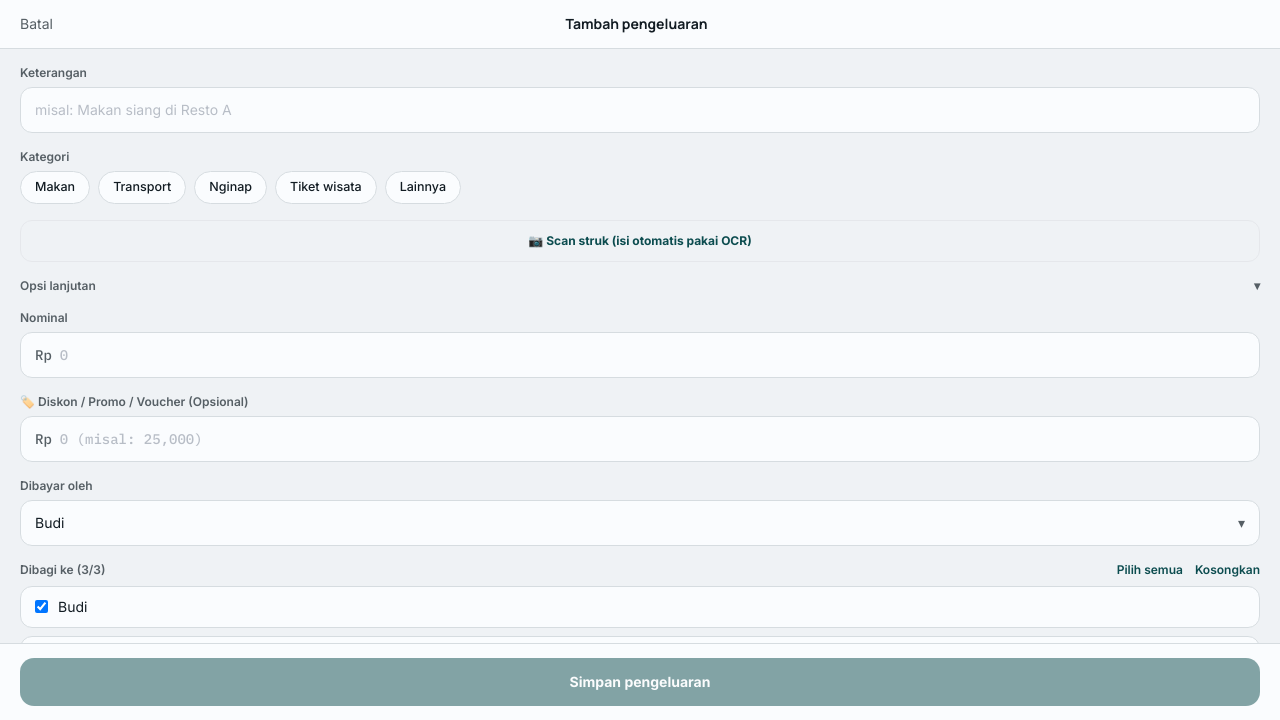
AddEditSubTripSheet — create mode › disables submit until a category is picked and required fields are filled
Expected: the button "Simpan pengeluaran" is disabled, [20,658,1260,706]
Type "Makan Siang" into the field with placeholder "misal: Makan siang di Resto A". click: (640, 110)
box: [20,87,1260,133]
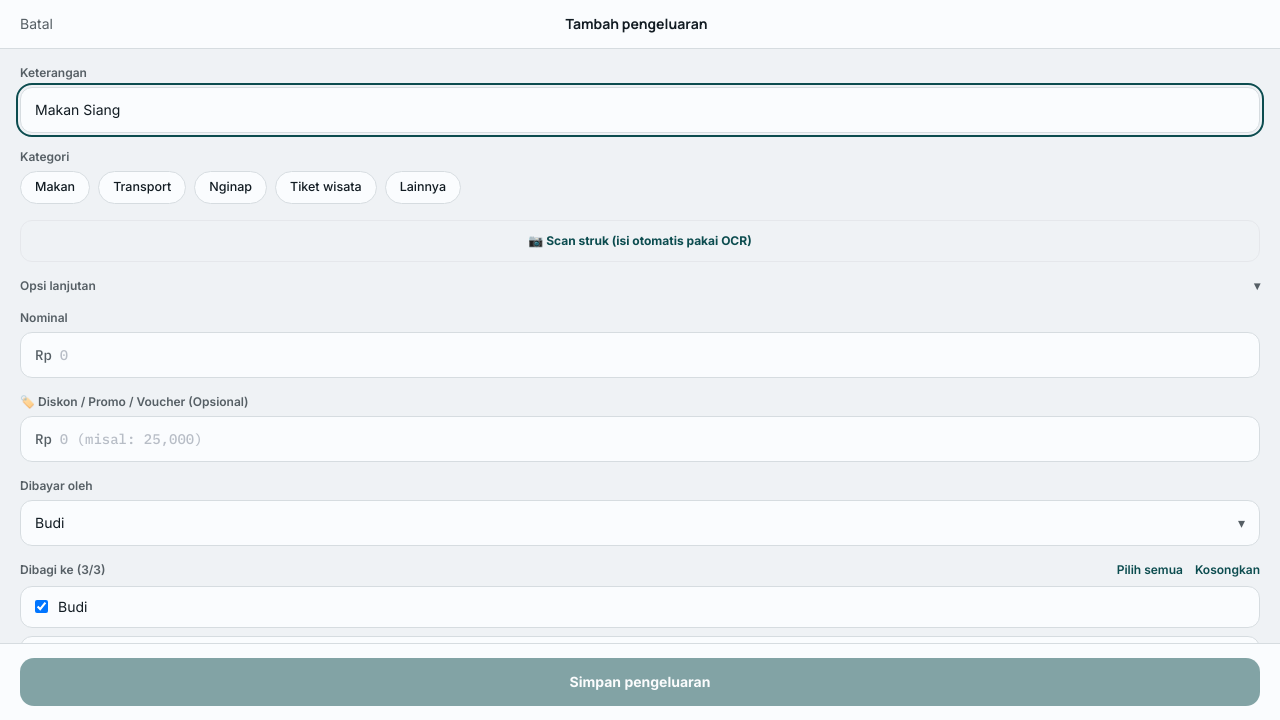
Type "90000" into the field with placeholder "0". click: (652, 355)
box: [60,345,1245,365]
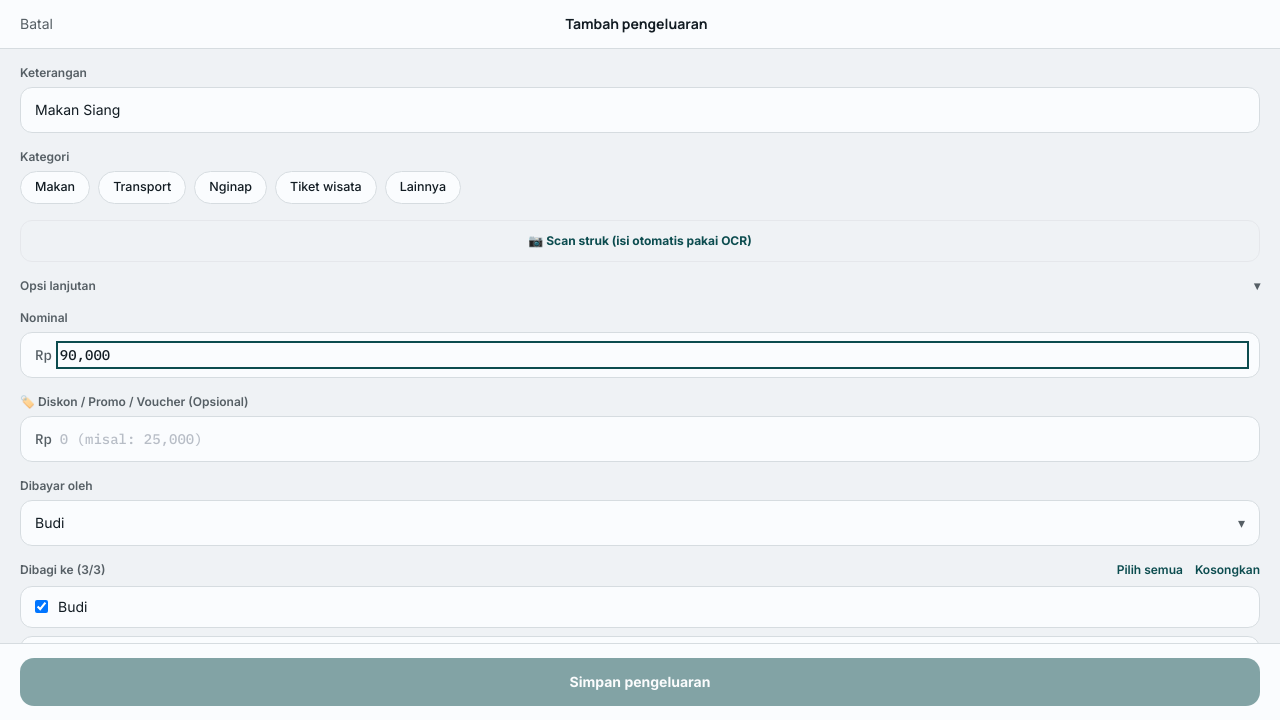
Expected: the button "Simpan pengeluaran" is disabled, [20,658,1260,706]
Click the button "Makan". click: (55, 187)
box: [20,171,90,204]
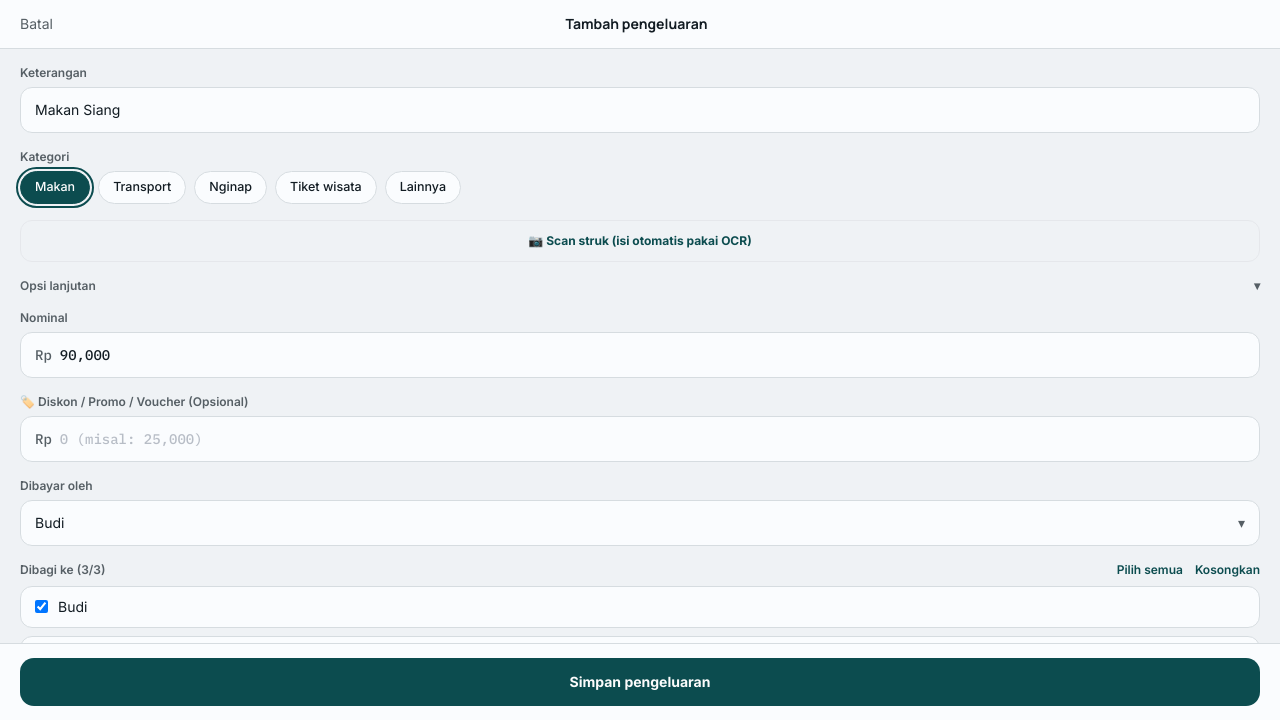
Result: the button "Simpan pengeluaran" is enabled at [20,658,1260,706]
